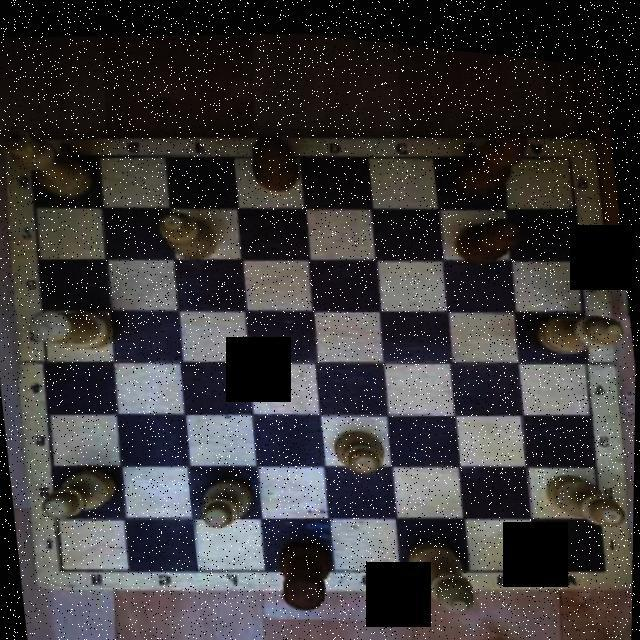chess-table-corners: (0, 130, 70, 188), (33, 534, 99, 594), (568, 523, 634, 582), (536, 119, 600, 174)
